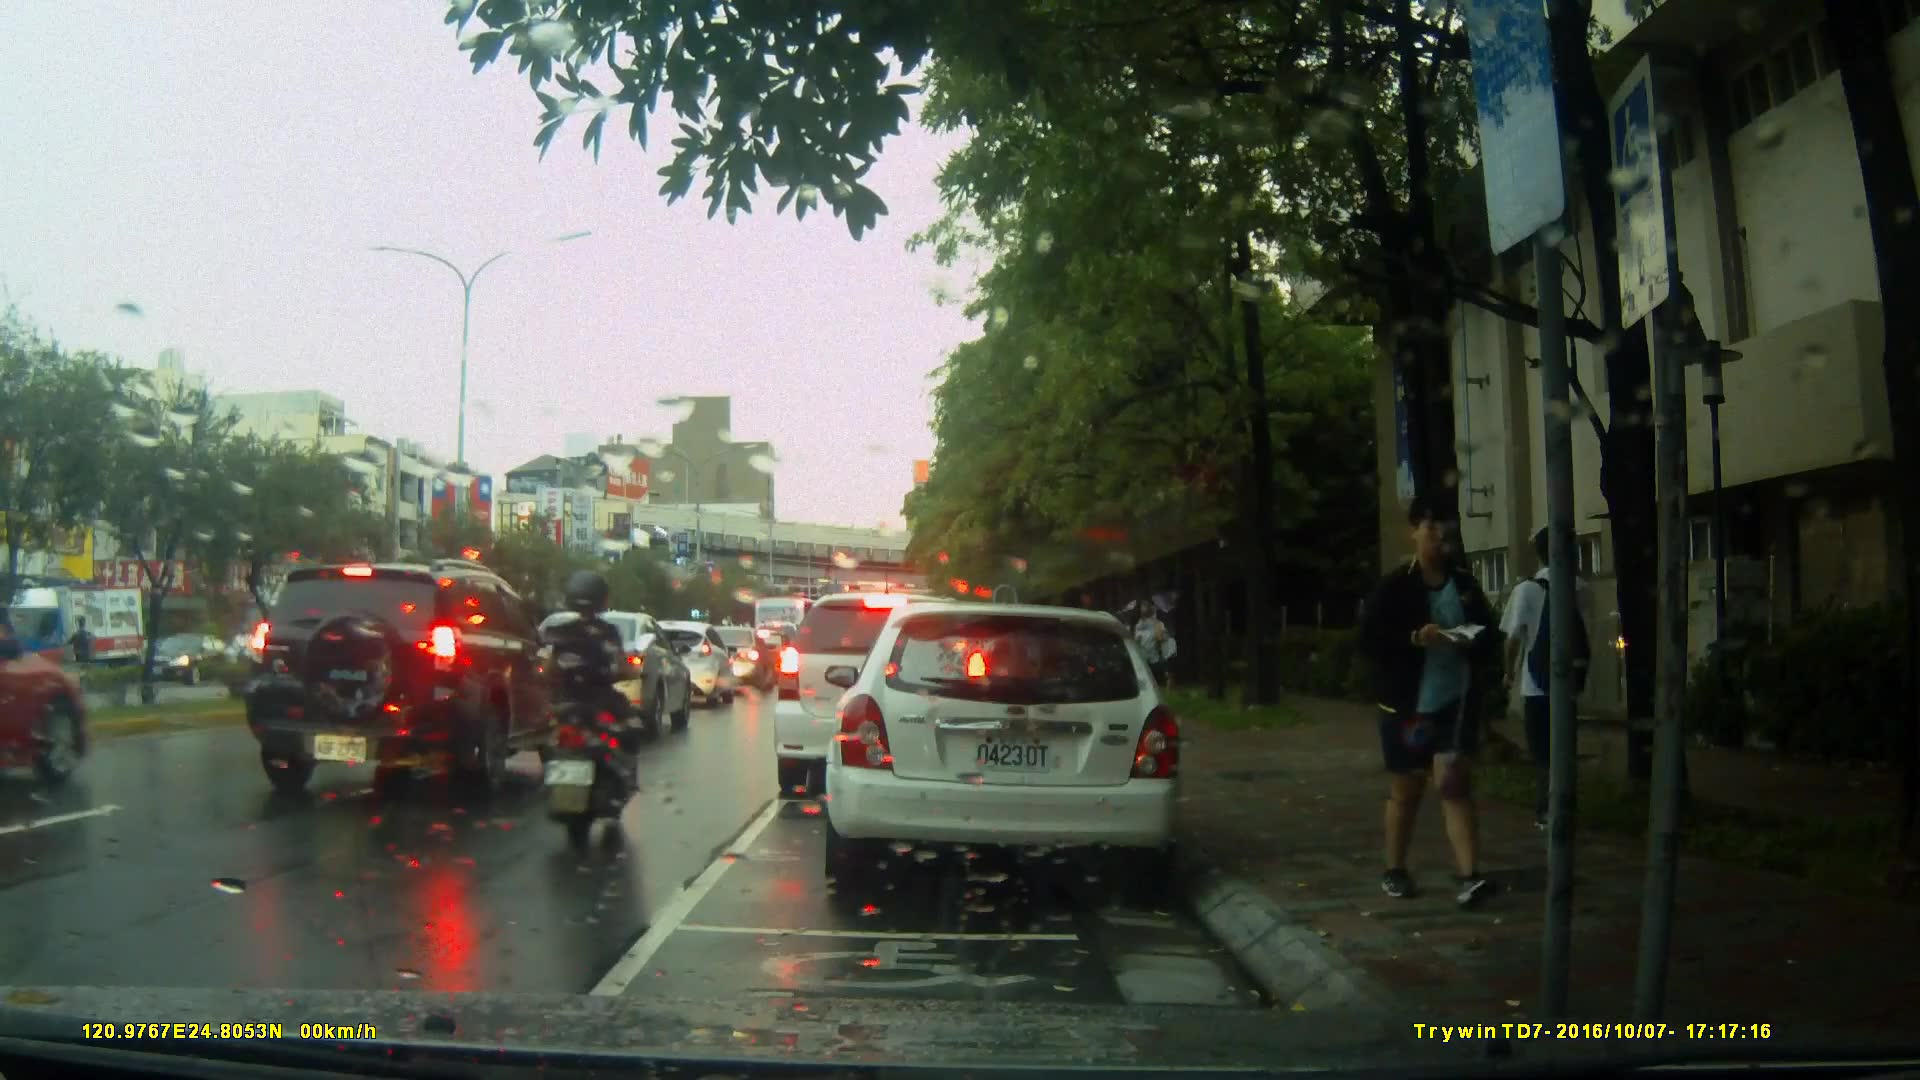pedestrian: (1362, 487, 1519, 914), (1512, 496, 1598, 834), (1124, 588, 1176, 730)
rider: (533, 567, 650, 841)
vehicle: (815, 593, 1200, 898), (237, 556, 579, 805), (771, 590, 995, 802), (506, 609, 691, 743), (1, 590, 95, 798), (1, 584, 150, 686), (696, 626, 767, 686)
